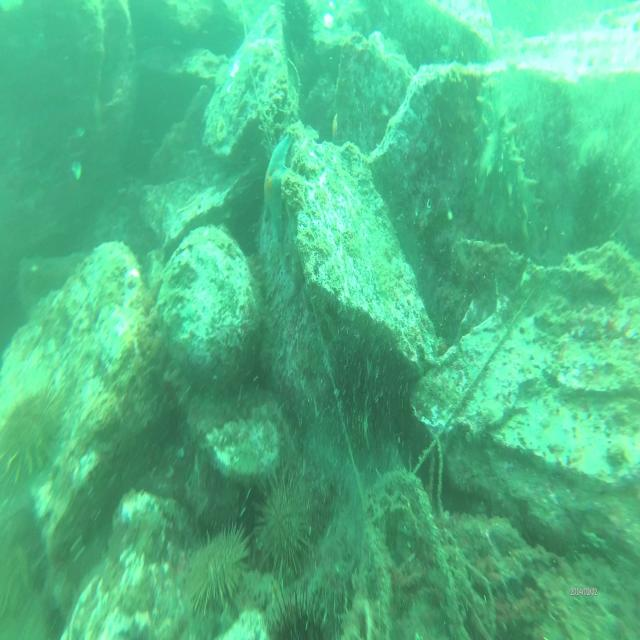echinus: (255, 462, 325, 587), (178, 516, 254, 625), (2, 383, 64, 487), (263, 589, 334, 640)
holothurian: (499, 134, 543, 246), (468, 72, 502, 196)
starfish: (265, 130, 296, 248), (316, 4, 341, 35)
